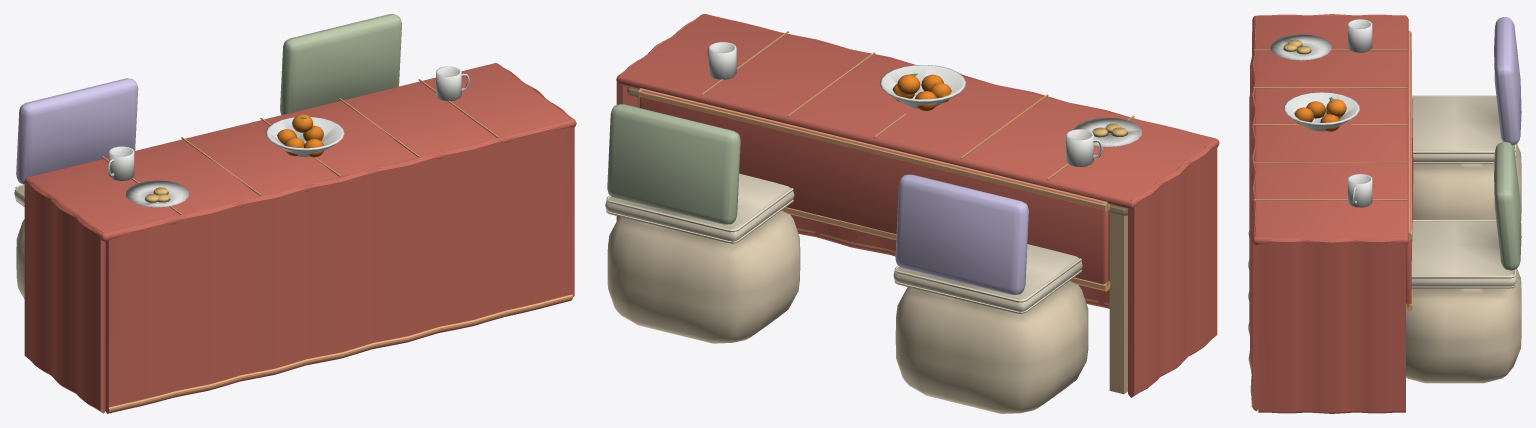
Rendered from quiltTable.glb.
3 renders of one model, left to right at view 1: azimuth 30°, elevation 25°; view 2: azimuth 150°, elevation 25°; view 3: azimuth 270°, elevation 25°, orthographic. The views are drawn at different scales.
Parts seen in each view (by area): view 1: body; view 2: body, quilt_flap; view 3: body, quilt_flap.
Boxes of the visible parts, x1=… form: body: x1=14, y1=14, x2=576, y2=413; body: x1=605, y1=14, x2=1219, y2=413; quilt_flap: x1=638, y1=88, x2=1110, y2=291; body: x1=1248, y1=14, x2=1521, y2=413; quilt_flap: x1=1406, y1=30, x2=1413, y2=311.
Size of the model in its own units: 1.82 by 0.7732 by 0.9266.
